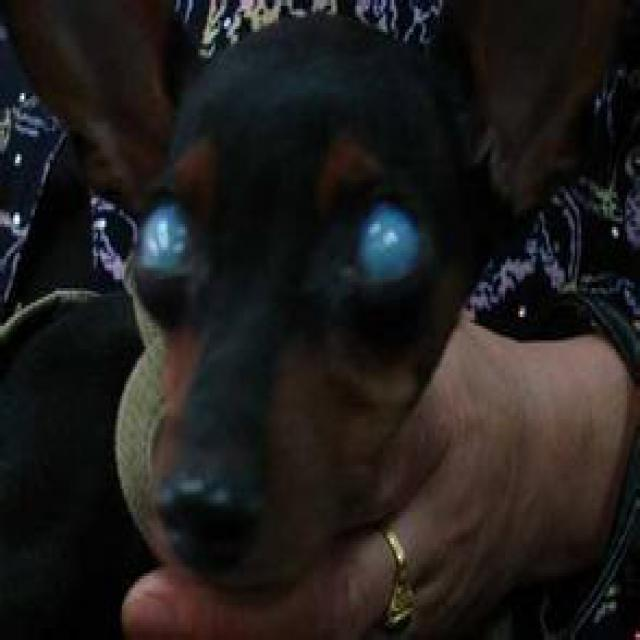eye: (342, 191, 427, 298), (132, 188, 206, 284)
